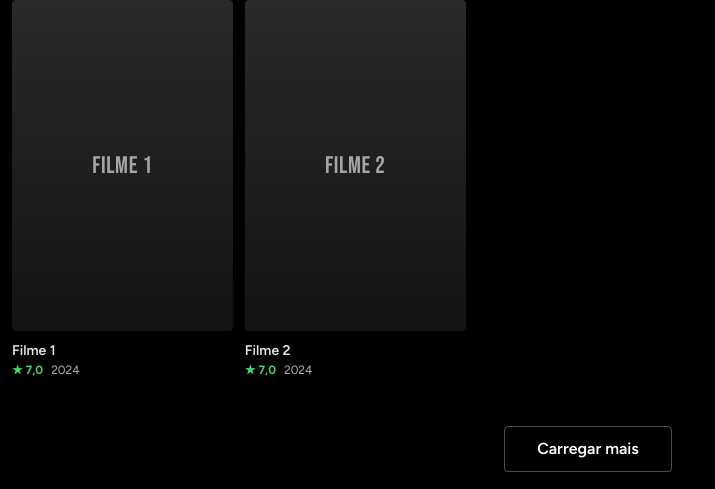
Scenario: MovieGrid › carrega mais, deduplica e esconde o botão na última página
This screenshot has width=715, height=489.
Click the button "Carregar mais" at coordinates (588, 449), box [504,426,672,472]
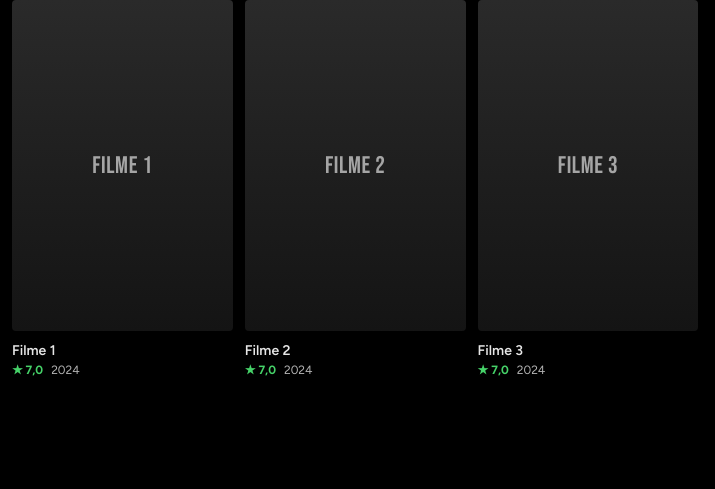
Check: the heading "Filme 3" is shown, box [478,342,523,359]
Check: the number of links is 3, box [12,0,233,378]; [245,0,466,378]; [478,0,698,378]
Check: the button "Carregar mais" is gone
